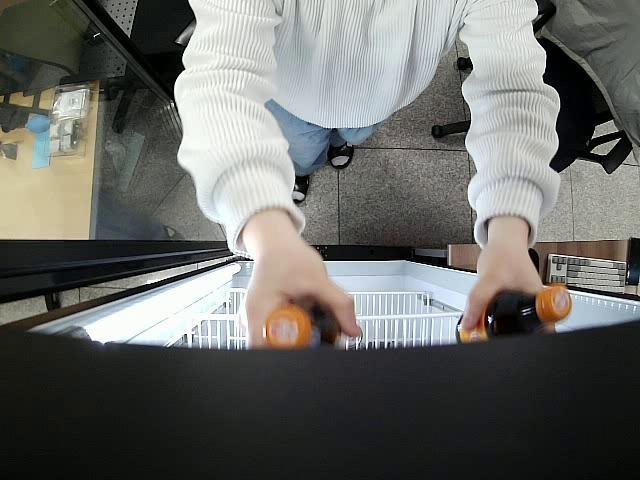17_vita500: (454, 284, 572, 342), (265, 294, 344, 350)
